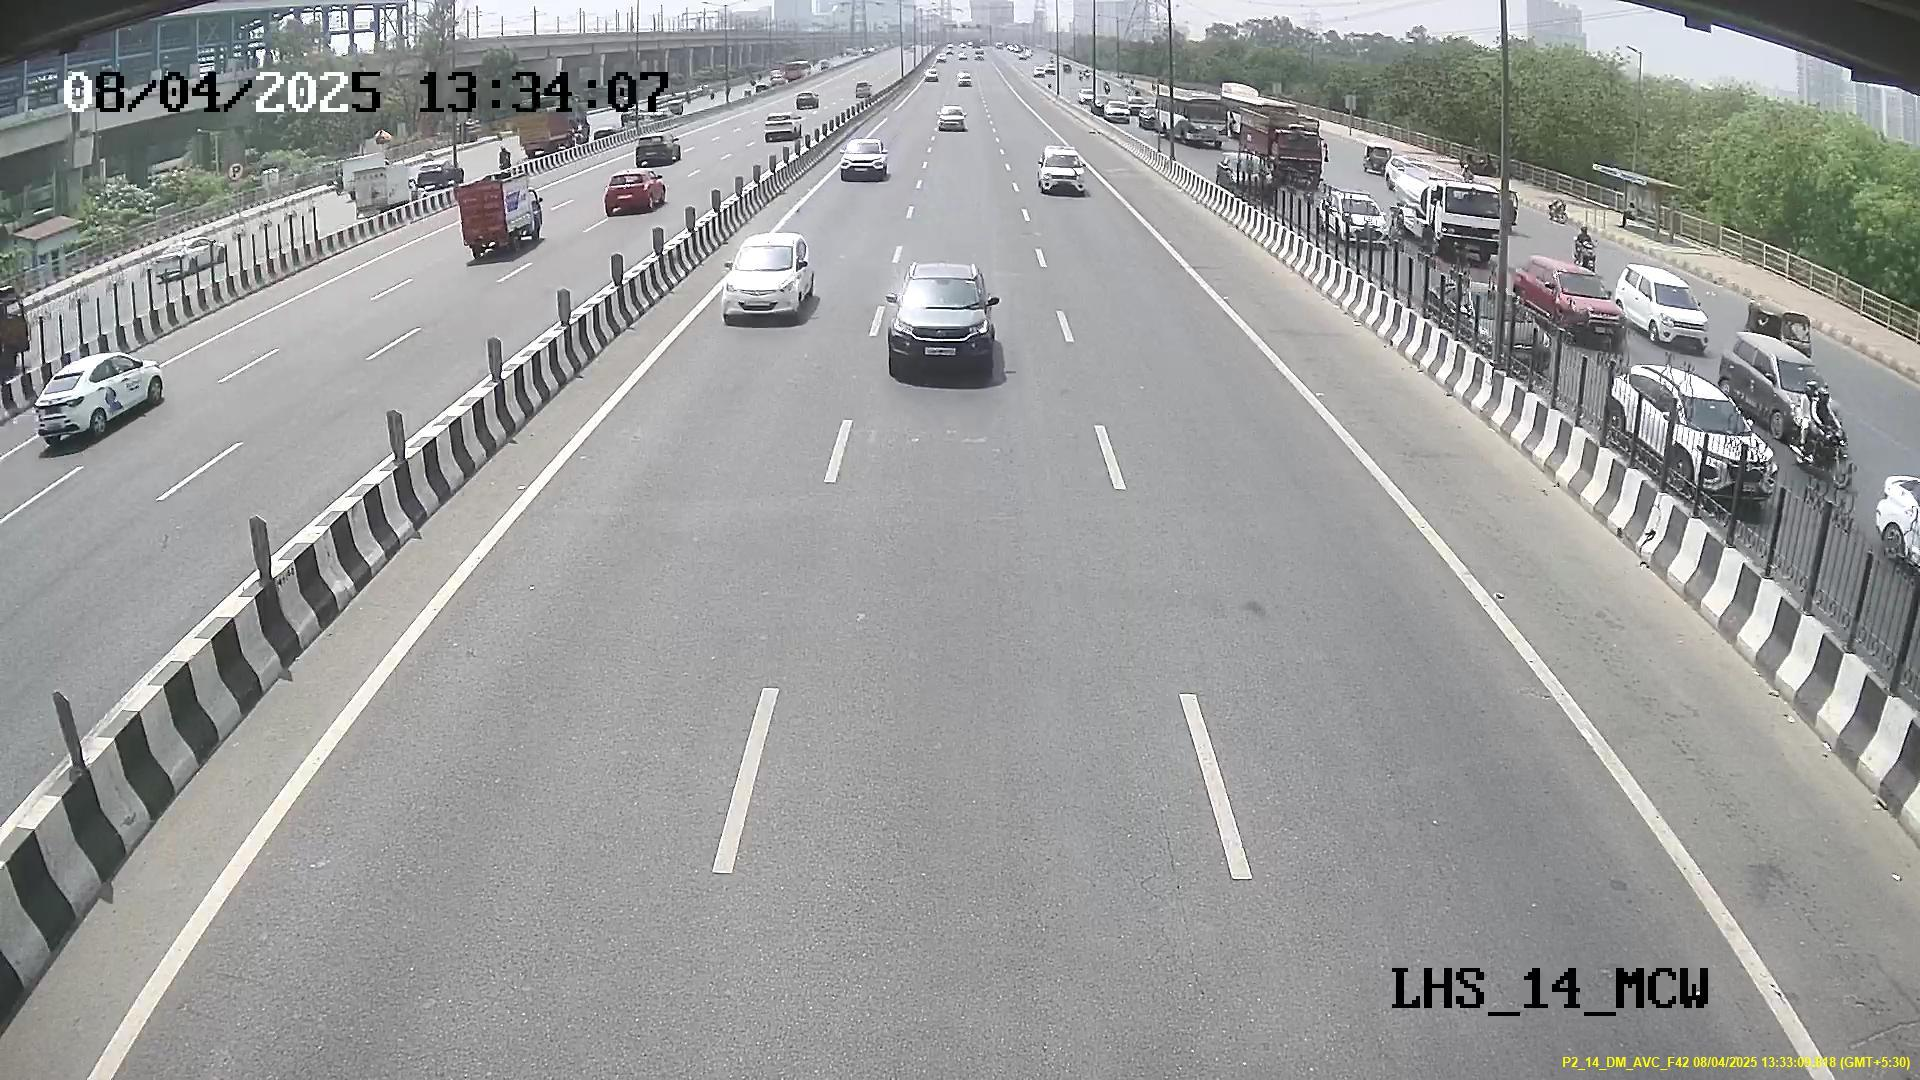car: (878, 261, 1005, 384), (716, 236, 816, 331)
